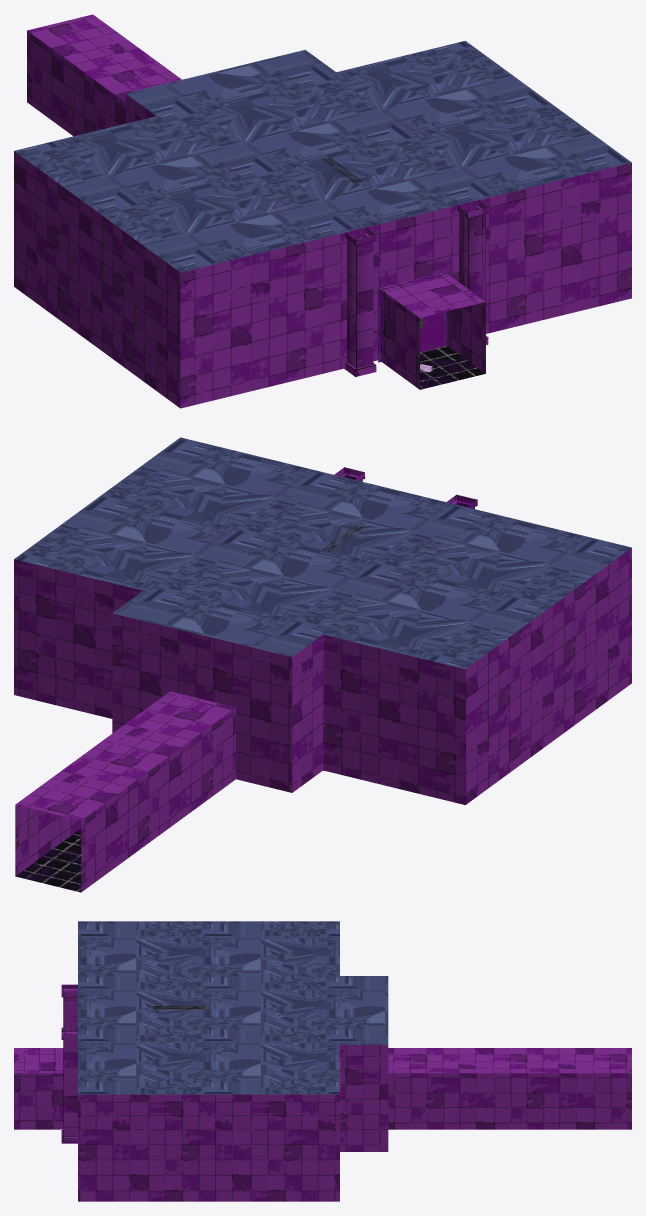
Rendered from Library_p1.fbx.
The picture shows the model from 3 angles, top to bottom: view 1: azimuth 30°, elevation 25°; view 2: azimuth 150°, elevation 25°; view 3: azimuth 270°, elevation 25°; orthographic projection. The views are drawn at different scales.
Visible parts, largest first — view 1: Roof, Wall, Entrance_Wall, Exit_Wall, Pillar, Exit_Floor, polySurface132; view 2: Roof, Wall, Entrance_Wall, Entrance_Floor, Pillar; view 3: Roof, Wall, Entrance_Wall, Exit_Wall, Pillar.
Boxes of the visible parts, x1=… form: Roof: x1=14, y1=41, x2=631, y2=272; Wall: x1=14, y1=94, x2=631, y2=408; Entrance_Wall: x1=27, y1=14, x2=181, y2=136; Exit_Wall: x1=379, y1=272, x2=485, y2=389; Pillar: x1=217, y1=119, x2=488, y2=376; Exit_Floor: x1=420, y1=346, x2=485, y2=389; polySurface132: x1=420, y1=312, x2=445, y2=352; Roof: x1=14, y1=437, x2=631, y2=669; Wall: x1=14, y1=548, x2=631, y2=804; Entrance_Wall: x1=15, y1=691, x2=235, y2=891; Entrance_Floor: x1=15, y1=828, x2=81, y2=892; Pillar: x1=204, y1=467, x2=477, y2=586; Roof: x1=78, y1=921, x2=388, y2=1094; Wall: x1=78, y1=1045, x2=388, y2=1201; Entrance_Wall: x1=388, y1=1048, x2=631, y2=1129; Exit_Wall: x1=14, y1=1048, x2=63, y2=1129; Pillar: x1=62, y1=984, x2=234, y2=1143.
Size of the model in its own units: 45.46 by 13.29 by 68.51.
